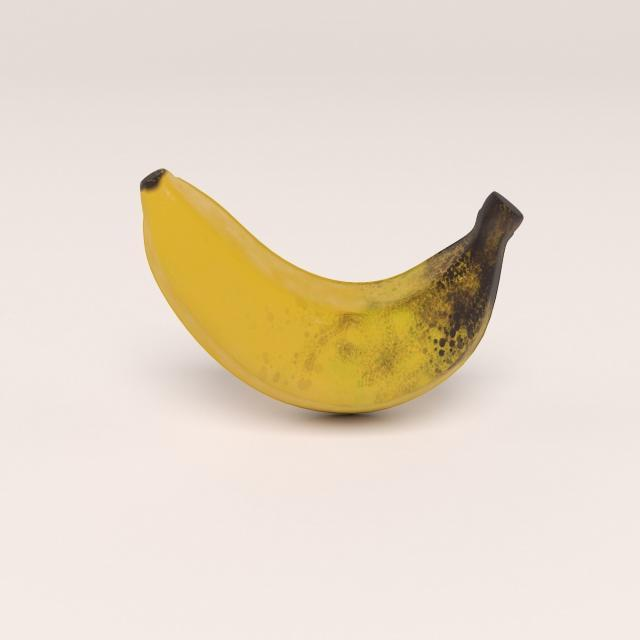Banana: (137, 166, 526, 420)
